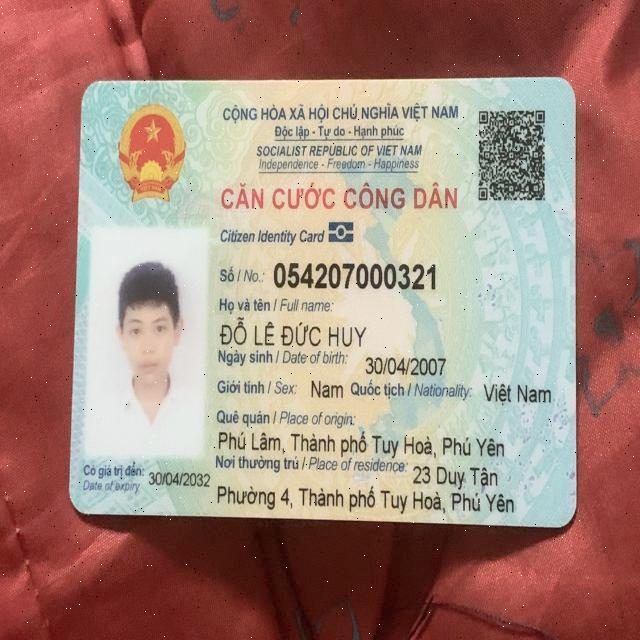current_place: (213, 480, 518, 516), (412, 461, 498, 489)
dob: (362, 347, 447, 377)
expire_date: (148, 462, 213, 491)
gender: (308, 379, 346, 398)
id: (270, 253, 438, 293)
name: (217, 314, 369, 351)
nationality: (484, 373, 555, 411)
origin_place: (215, 425, 506, 458)
qr: (474, 106, 552, 208)
